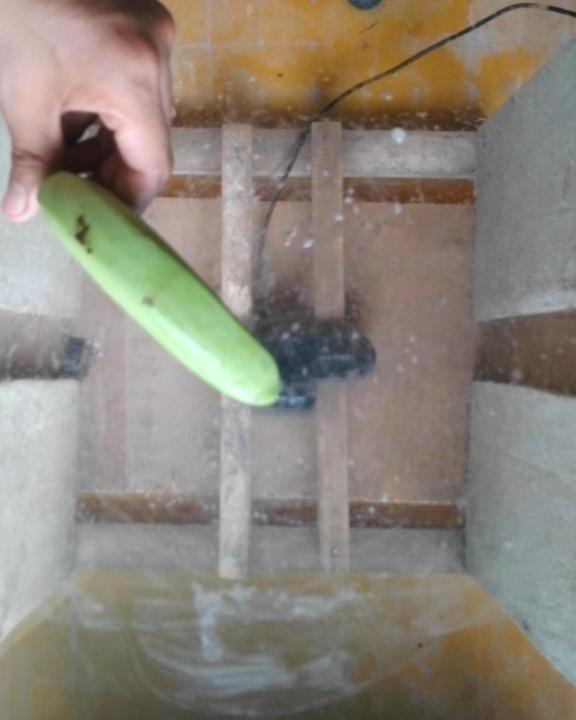CLASS B: (29, 160, 296, 399)
Class A: (71, 207, 107, 261)
